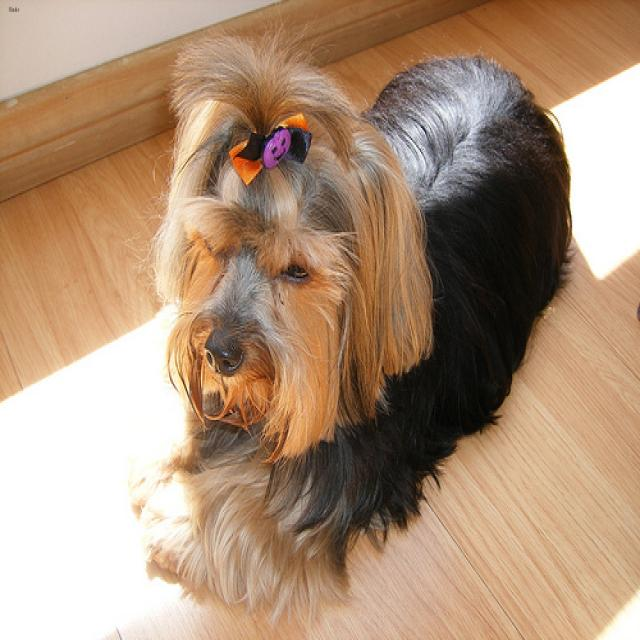dog-yorkshire_terrier: (119, 12, 581, 613)
